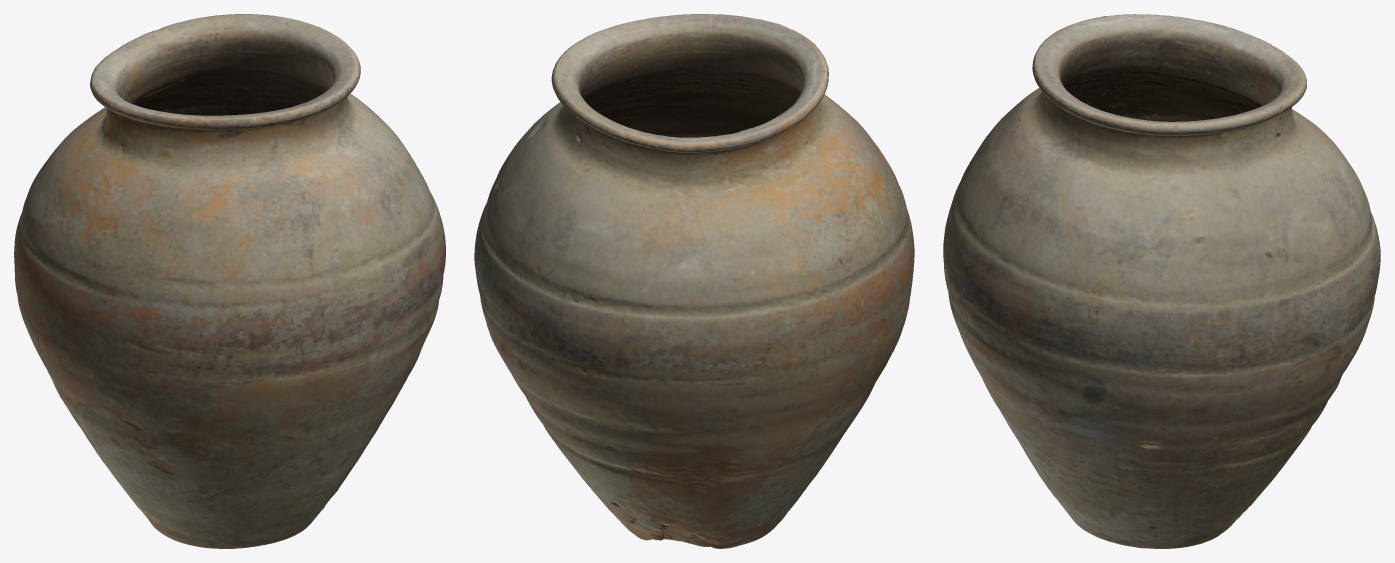
Rendered from etruscan_olla.glb.
3 views of the same model, side by side, from view 1: azimuth 30°, elevation 25°; view 2: azimuth 150°, elevation 25°; view 3: azimuth 270°, elevation 25° (orthographic).
Parts seen in each view (by area): view 1: Object_3, Object_2, Object_4; view 2: Object_4, Object_2, Object_3; view 3: Object_3, Object_2, Object_4.
Boxes of the visible parts, x1,y1,x2,y2 form: Object_3: (64,65,445,548); Object_2: (14,14,445,548); Object_4: (15,23,431,467); Object_4: (474,14,871,504); Object_2: (527,14,910,548); Object_3: (474,62,914,545); Object_3: (943,58,1380,542); Object_2: (943,14,1311,548); Object_4: (1032,26,1380,496).
Bounding box in the file's own units: 0.2609 × 0.3006 × 0.26.
1 material, 1 textured.
